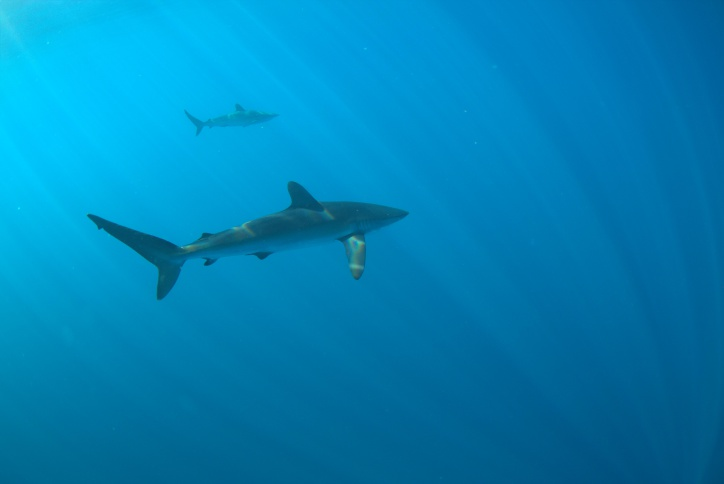Sedoso: (45, 169, 407, 300)
